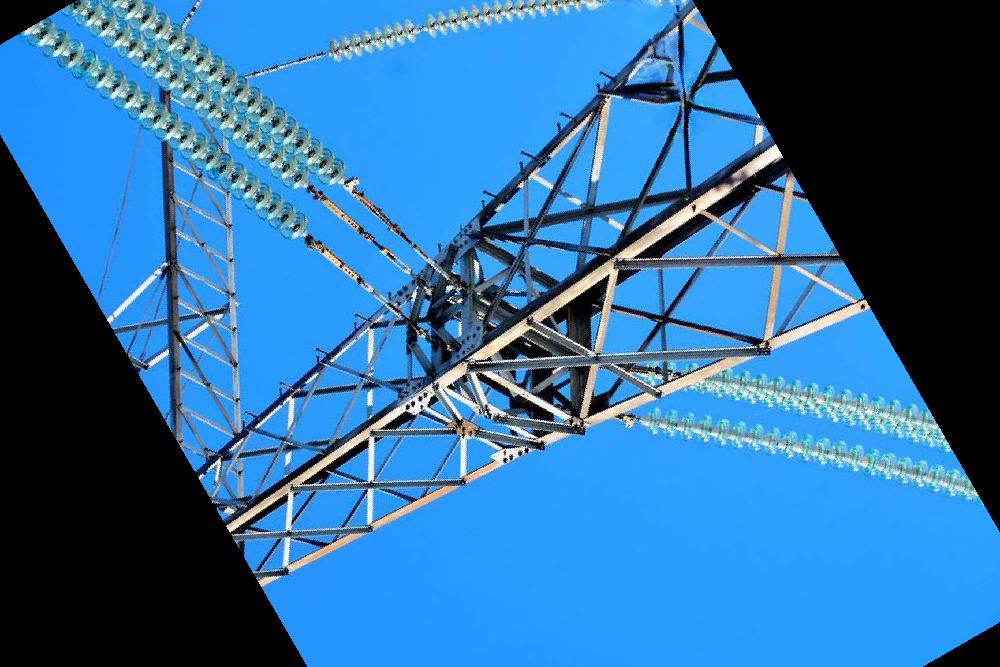insulator: (17, 13, 315, 249), (64, 1, 349, 205), (641, 403, 987, 511), (645, 353, 955, 456), (323, 1, 605, 67)
insulator_stringdrop: (402, 11, 439, 47)
